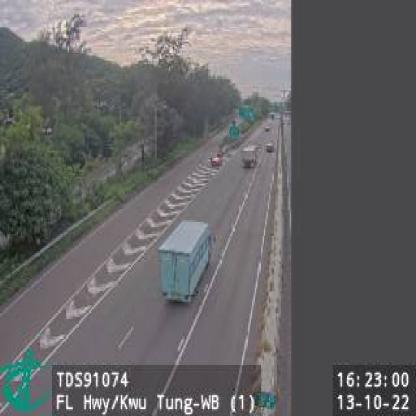Car: (266, 142, 274, 153)
Truck: (160, 219, 210, 303), (242, 142, 260, 168)
